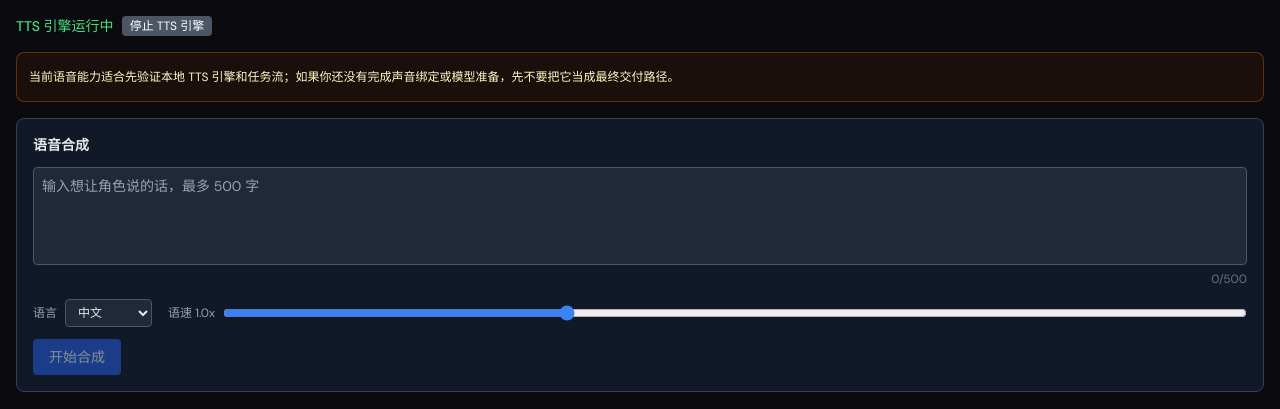
Scenario: submit button enabled when text is entered
Type "你好，世界！" into the text box with placeholder "输入想让角色说的话，最多 500 字".
click(640, 216); type("你好，世界！")  # box [33,167,1247,265]
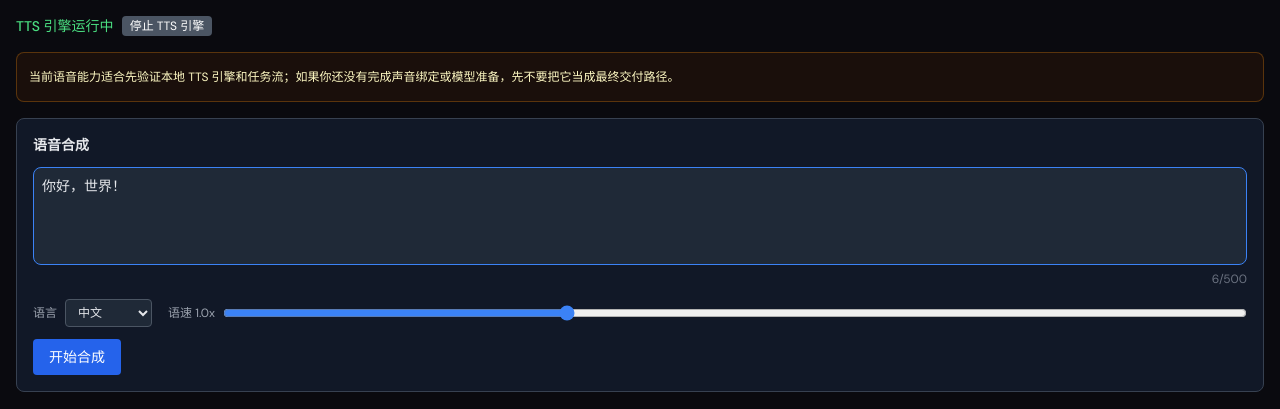
Expected: the button "开始合成" is enabled, [33,339,121,375]
